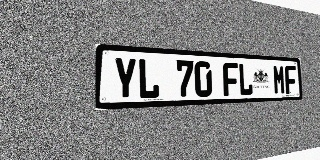0: (194, 61, 212, 97)
7: (175, 60, 194, 98)
F: (223, 62, 239, 96), (285, 65, 297, 94)
L: (138, 58, 160, 99), (238, 63, 253, 96)
M: (273, 65, 286, 95)
Y: (113, 57, 137, 100)
